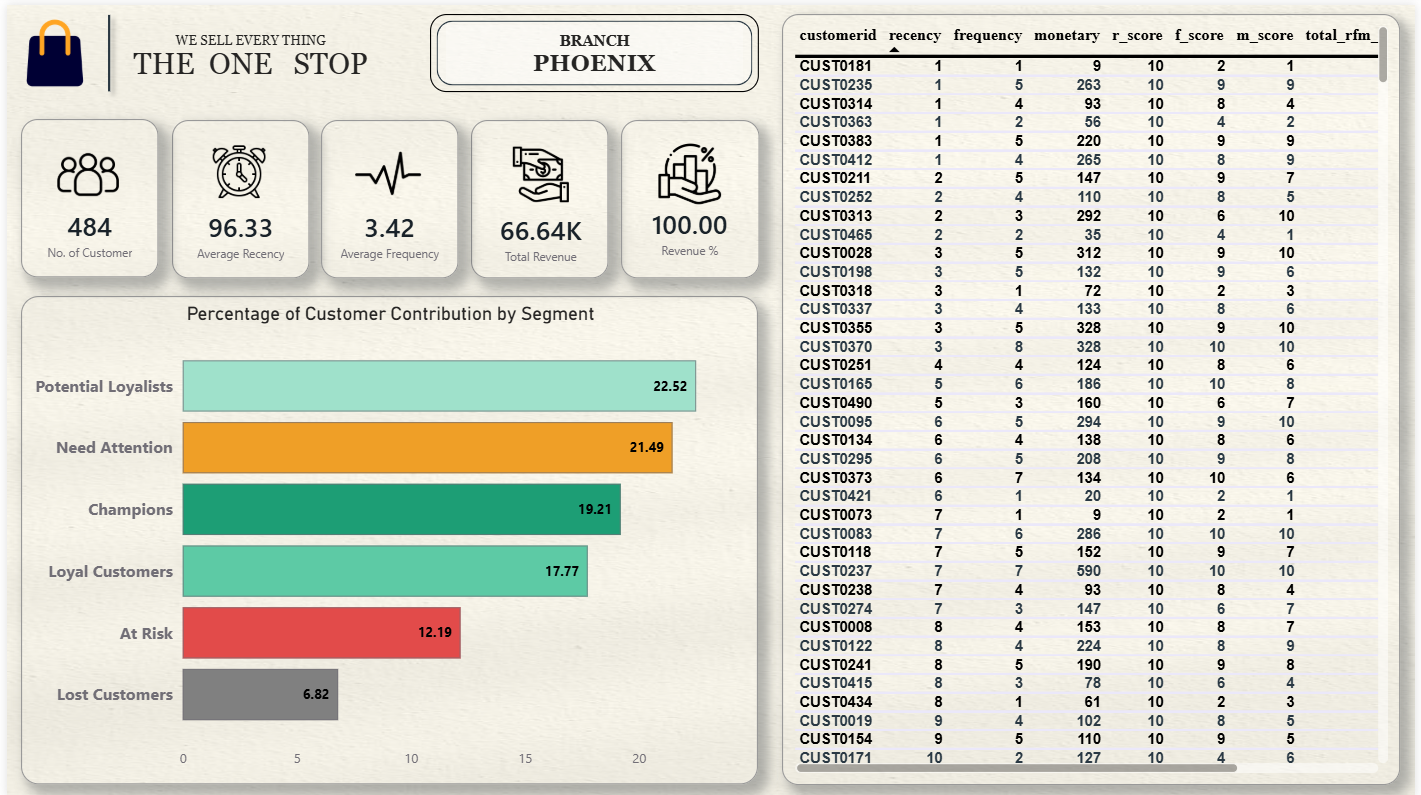

The page's visual inventory and layout, read from the dashboard file:
{"tool":"powerbi","page":{"name":"RFM Report","canvas":[1280,720],"ordinal":0},"visuals":[{"type":"barChart","title":"Percentage of Customer Contribution by Segment","fields":{"Category":["customer_segment.customer_segment"],"Y":["customer_segment.Customer %"]},"box":[12.9,264.6,670.1,444.1],"z":0},{"type":"tableEx","fields":{"Values":["customer_segment.customerid","customer_segment.recency","customer_segment.frequency","customer_segment.monetary","customer_segment.r_score","customer_segment.f_score","customer_segment.m_score","customer_segment.total_rfm_score","customer_segment.customer_segment"]},"box":[704.4,7.8,562.2,701.1],"z":1000},{"type":"textbox","box":[93.3,0,255.8,94.2],"z":2000},{"type":"cardVisual","fields":{"Data":["customer_segment.Total Revenue"]},"box":[421.8,104.2,125,144.2],"z":3000},{"type":"cardVisual","fields":{"Data":["customer_segment.Average Recency"]},"box":[149.9,104.2,125,144.2],"z":4000},{"type":"shape","box":[69.2,0,47.5,87.5],"z":5000},{"type":"cardVisual","fields":{"Data":["customer_segment.Revenue %"]},"box":[557.8,104.4,125.6,144.4],"z":6000},{"type":"cardVisual","fields":{"Data":["customer_segment.Average Frequency"]},"box":[285.8,104.2,125,144.2],"z":7000},{"type":"cardVisual","fields":{"Data":["CountNonNull(customer_segment.customerid)"]},"box":[12.9,103.9,125.4,144.3],"z":8000},{"type":"image","box":[0,7.7,87.6,71.3],"z":9000},{"type":"shape","box":[384.5,8.2,299.1,70.9],"z":9001},{"type":"textbox","box":[399.1,18.2,270,51.8],"z":9002}]}

Visuals, with their boxes in screenshot pixels (x1, y1, x2, y2), scaled from the page's 1280x720 canvas onto the 1421x795 screenshot:
"Percentage of Customer Contribution by Segment" barChart: [14,292,758,783]
tableEx - customer_segment.customerid x customer_segment.recency: [782,9,1406,783]
textbox: [104,0,388,104]
cardVisual - customer_segment.Total Revenue: [468,115,607,274]
cardVisual - customer_segment.Average Recency: [166,115,305,274]
shape: [77,0,130,97]
cardVisual - customer_segment.Revenue %: [619,115,759,275]
cardVisual - customer_segment.Average Frequency: [317,115,456,274]
cardVisual - CountNonNull(customer_segment.customerid): [14,115,154,274]
image: [0,9,97,87]
shape: [427,9,759,87]
textbox: [443,20,743,77]
